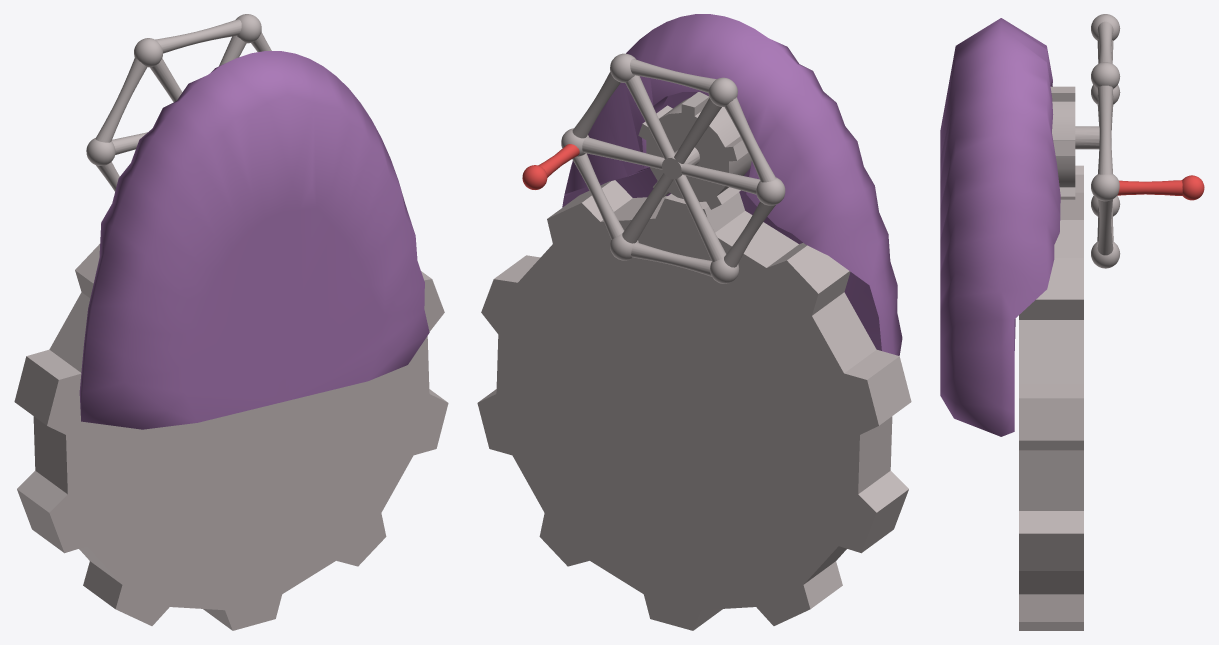
The model's file is rotateDevice.fbx.
3 renders of one model, left to right at view 1: azimuth 30°, elevation 25°; view 2: azimuth 150°, elevation 25°; view 3: azimuth 270°, elevation 25°, orthographic.
Parts seen in each view (by area): view 1: p2, p1, dial; view 2: p1, p2, dial, p3, handlle; view 3: p2, p1, dial, p3, handlle.
Boxes of the visible parts, x1,y1,x2,y2 form: p2: (79,51,429,429); p1: (14,243,448,630); dial: (86,14,271,191); p1: (477,180,911,630); p2: (562,14,902,355); dial: (561,53,785,283); p3: (638,92,751,209); handlle: (522,144,579,189); p2: (940,18,1060,436); p1: (1019,165,1083,630); dial: (1075,14,1120,268); p3: (1050,86,1075,199); handlle: (1117,175,1204,200).
Bounding box in the file's own units: 361 × 500 × 206.
Materials: 1 (1 with a texture image).
